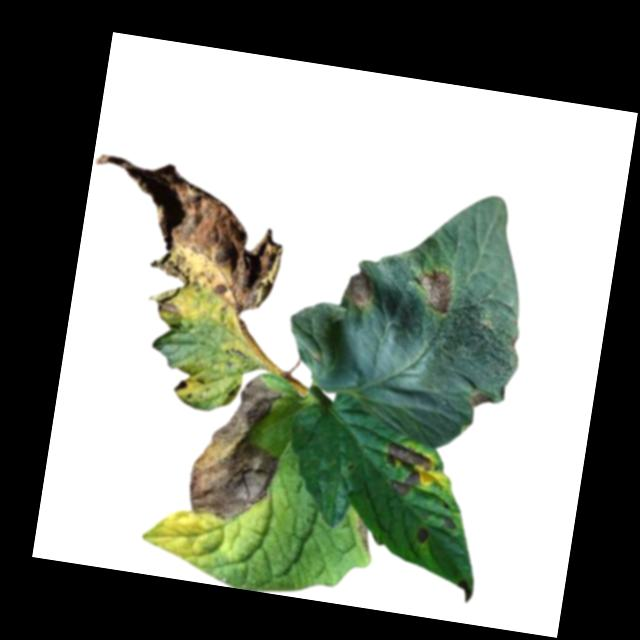Early_blight: (73, 148, 294, 326), (183, 367, 292, 528), (378, 438, 435, 500), (414, 266, 457, 315), (342, 269, 378, 310), (465, 387, 495, 411), (355, 515, 374, 552), (456, 577, 473, 603), (413, 524, 432, 544), (172, 372, 190, 392), (441, 512, 459, 530)
